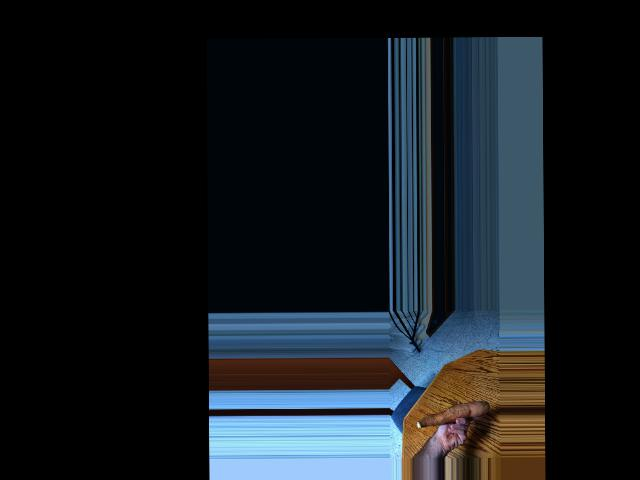sweet_potato: (415, 398, 487, 431)
